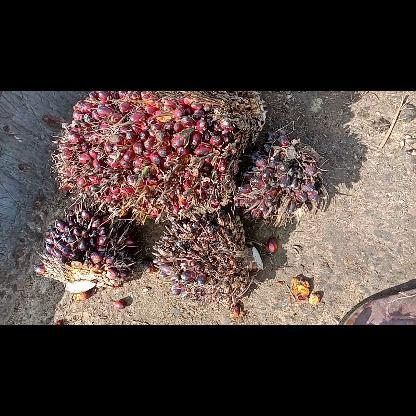TBS abnormal: (154, 223, 262, 301), (37, 212, 135, 294), (242, 136, 326, 224)
TBS masak: (48, 91, 266, 221)
